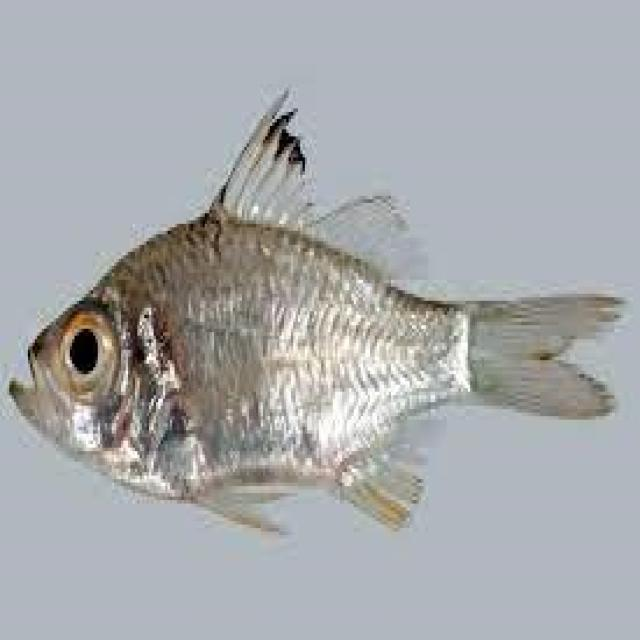Glass-Perchlet: (3, 45, 640, 583)
